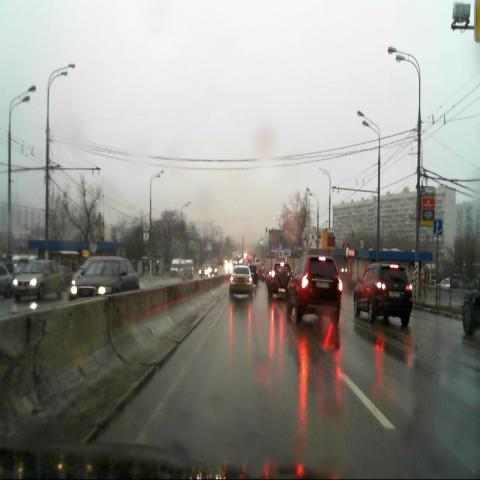6_6: (433, 219, 442, 234)
